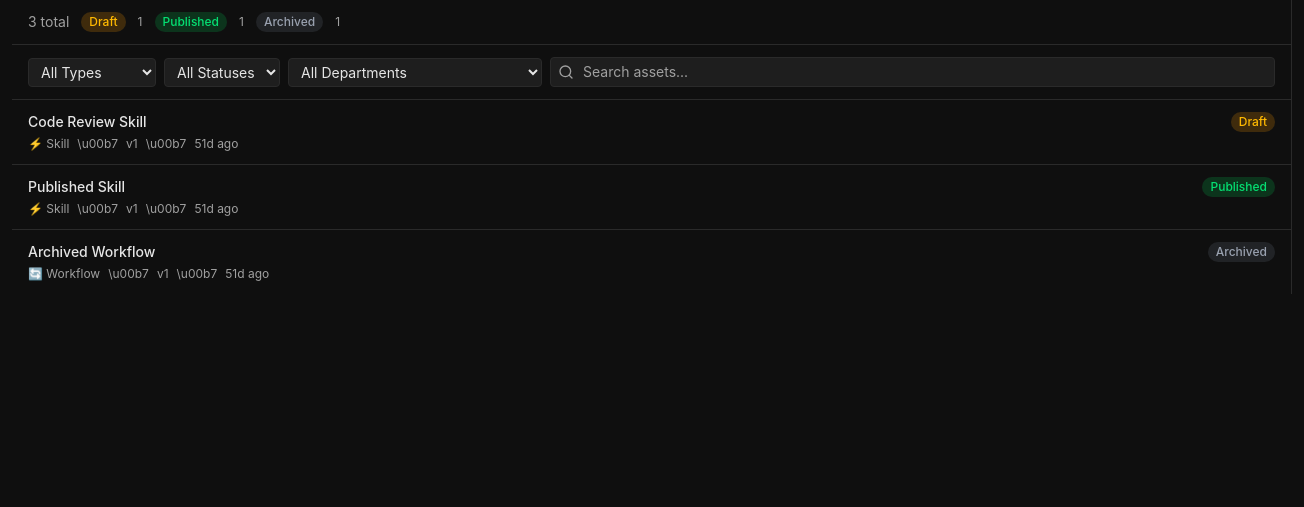
Scenario: AssetsView › test tab renders chat interface with input
Click the text "Code Review Skill".
click(87, 122)  # box [28, 113, 146, 130]
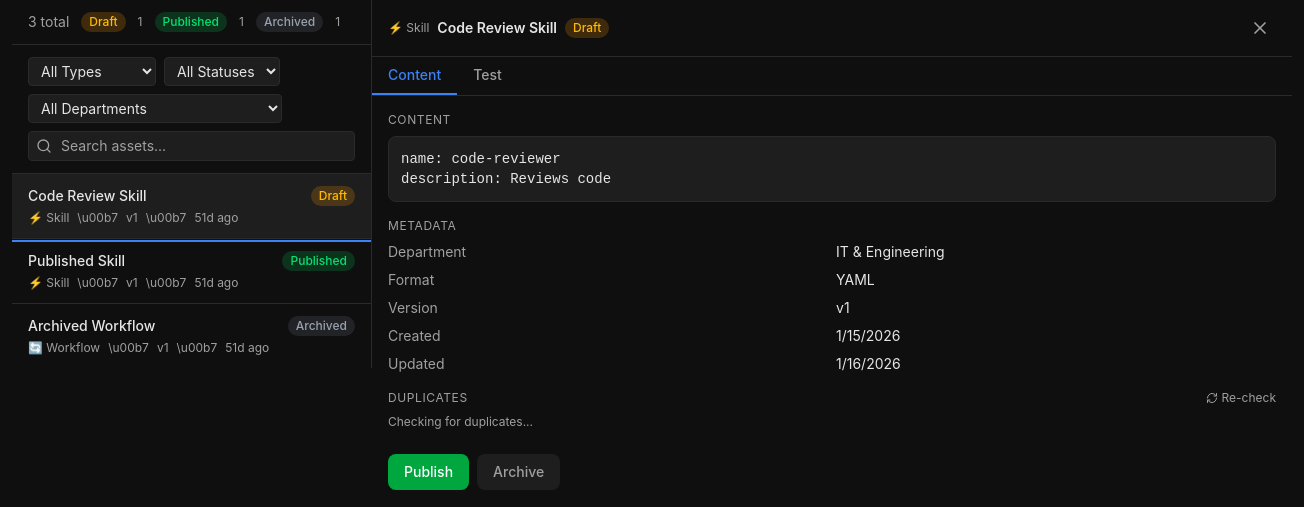
Check: the tab "Test" is shown
Click the tab "Test".
click(488, 76)  # box [457, 57, 518, 95]
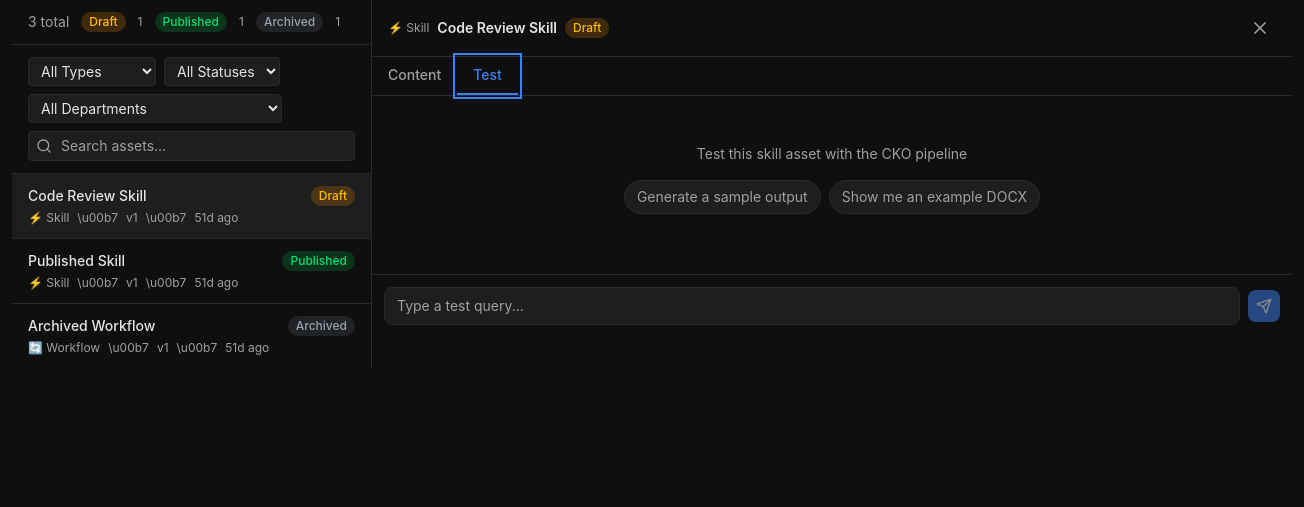
Check: the field with placeholder "Type a test query..." is shown, box [384, 287, 1240, 325]
